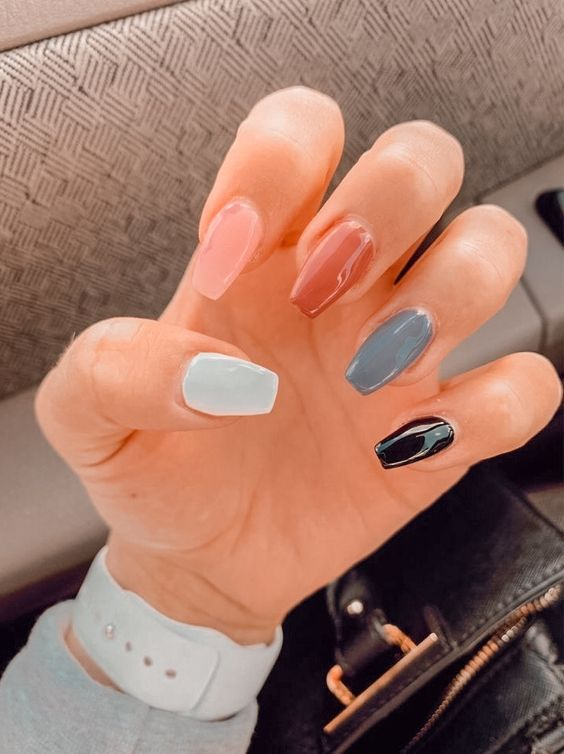nails: (164, 335, 285, 430), (283, 212, 378, 322), (178, 192, 270, 305), (344, 300, 444, 401), (367, 412, 464, 475)
